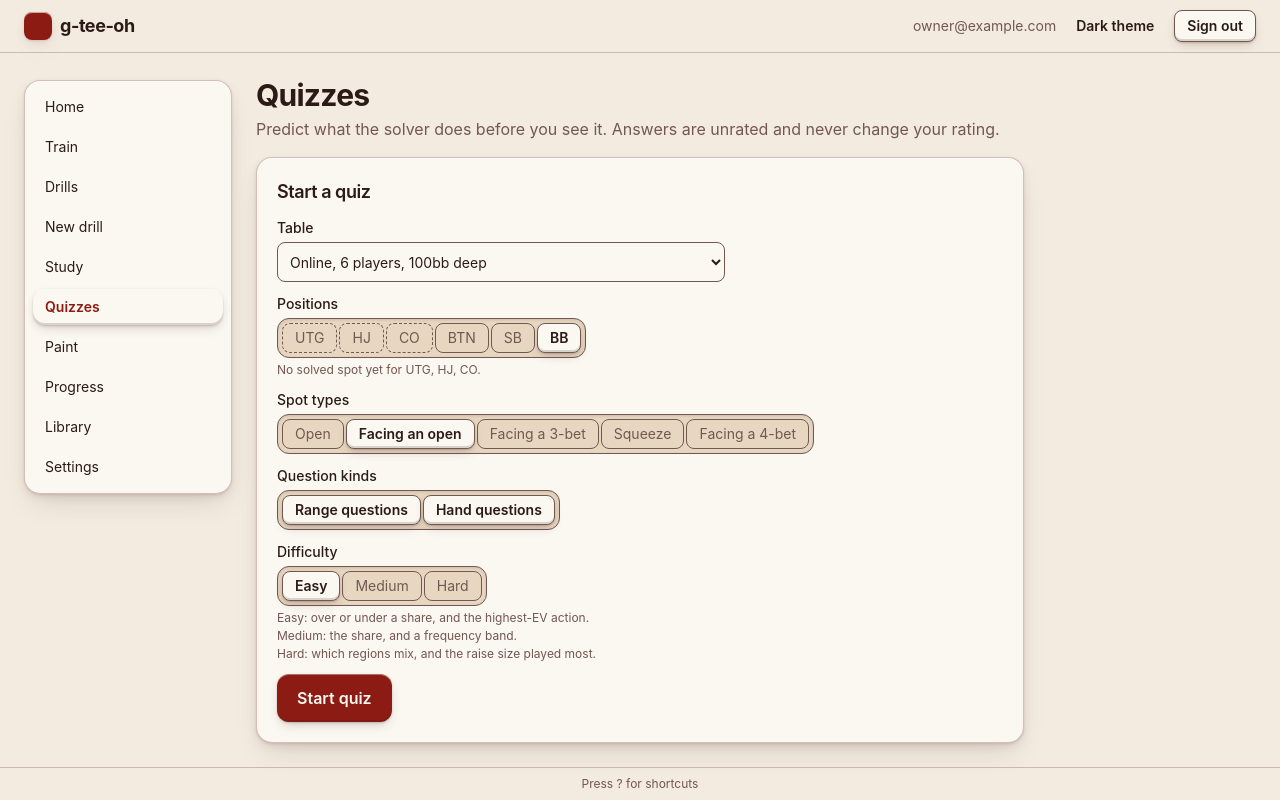
Scenario: R3.16 a quiz result (O-410) › R3.16 shows the passed mark and the window counts, and no unlock wording
Click the button "Start quiz": (334, 698) [277, 674, 392, 722]
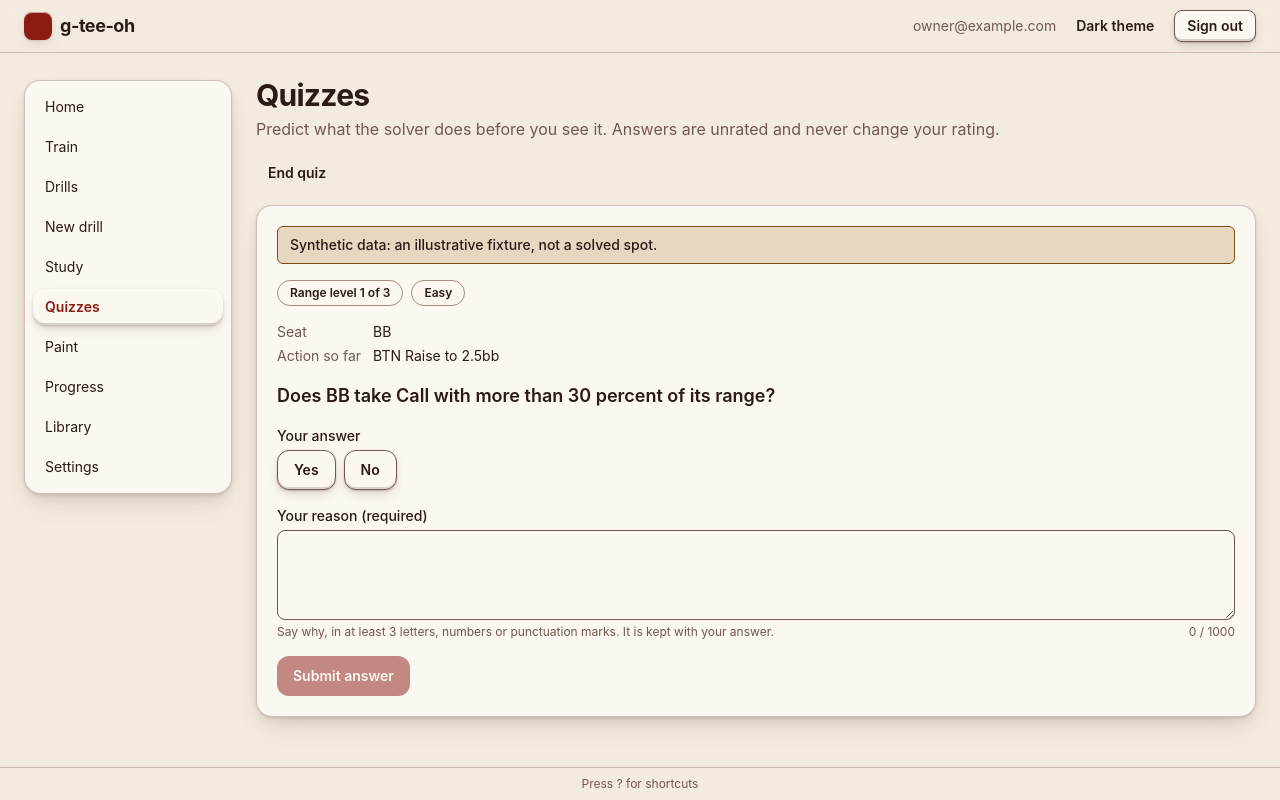
Now the heading "Does BB take Call with more than 30 percent of its range?" is shown, box [277, 385, 775, 406]
Click the button "Yes": (306, 470) [277, 450, 336, 490]
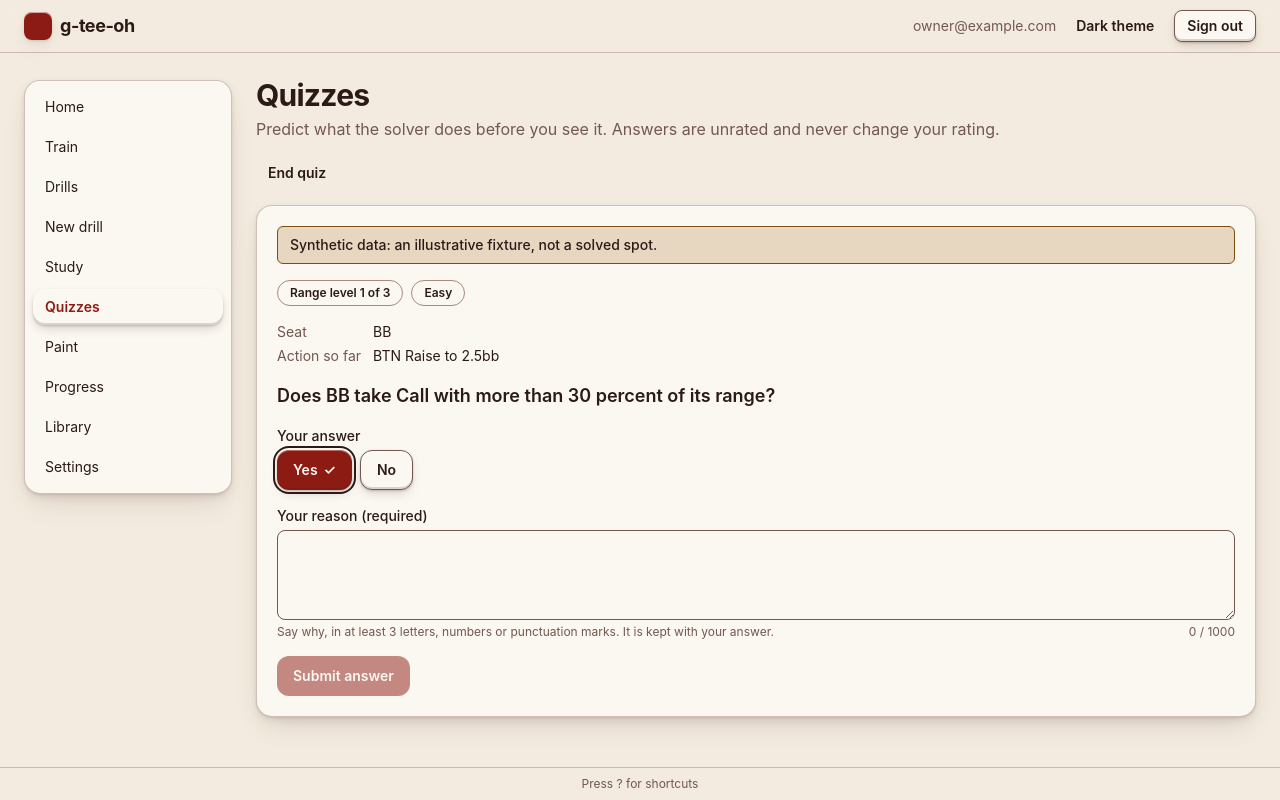
In the text box labelled "Your reason (required)": (756, 575) [277, 530, 1235, 620], type "Calls are cheap here."
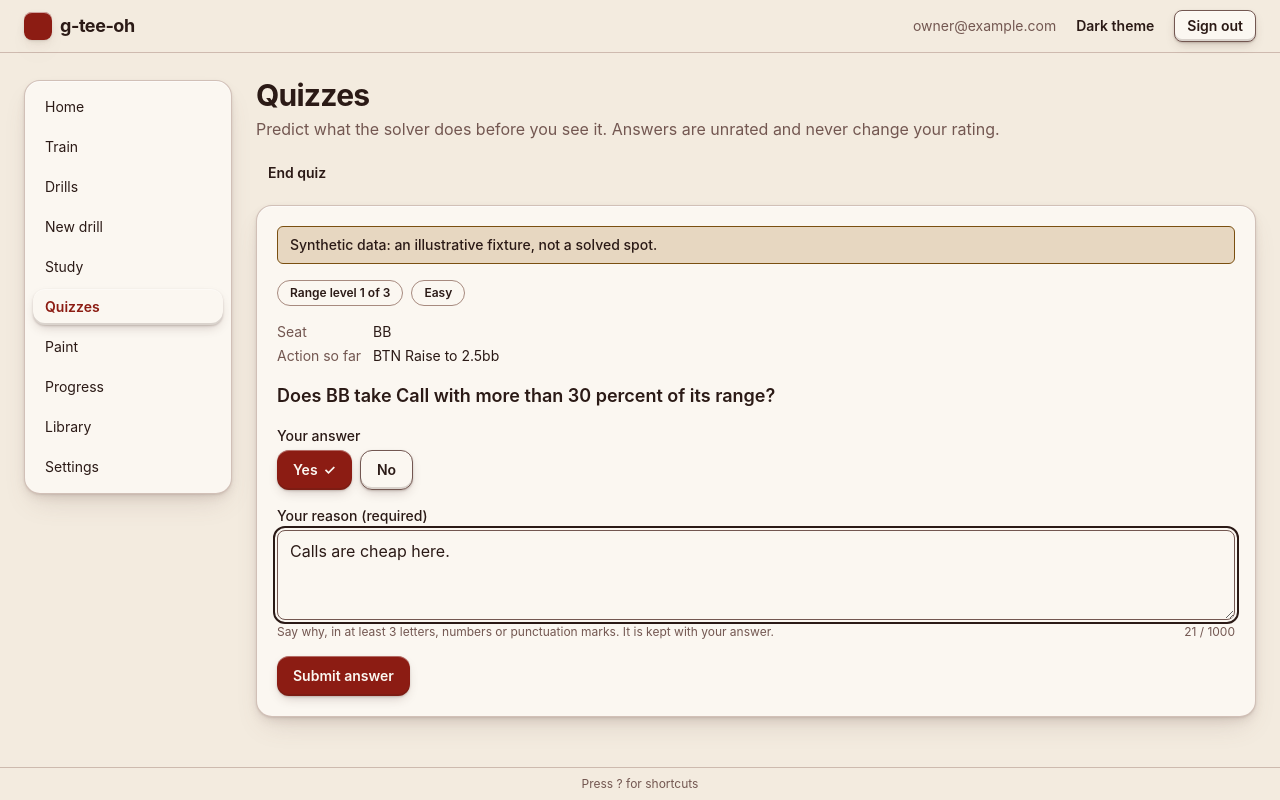
Click the button "Submit answer": (343, 676) [277, 656, 410, 696]
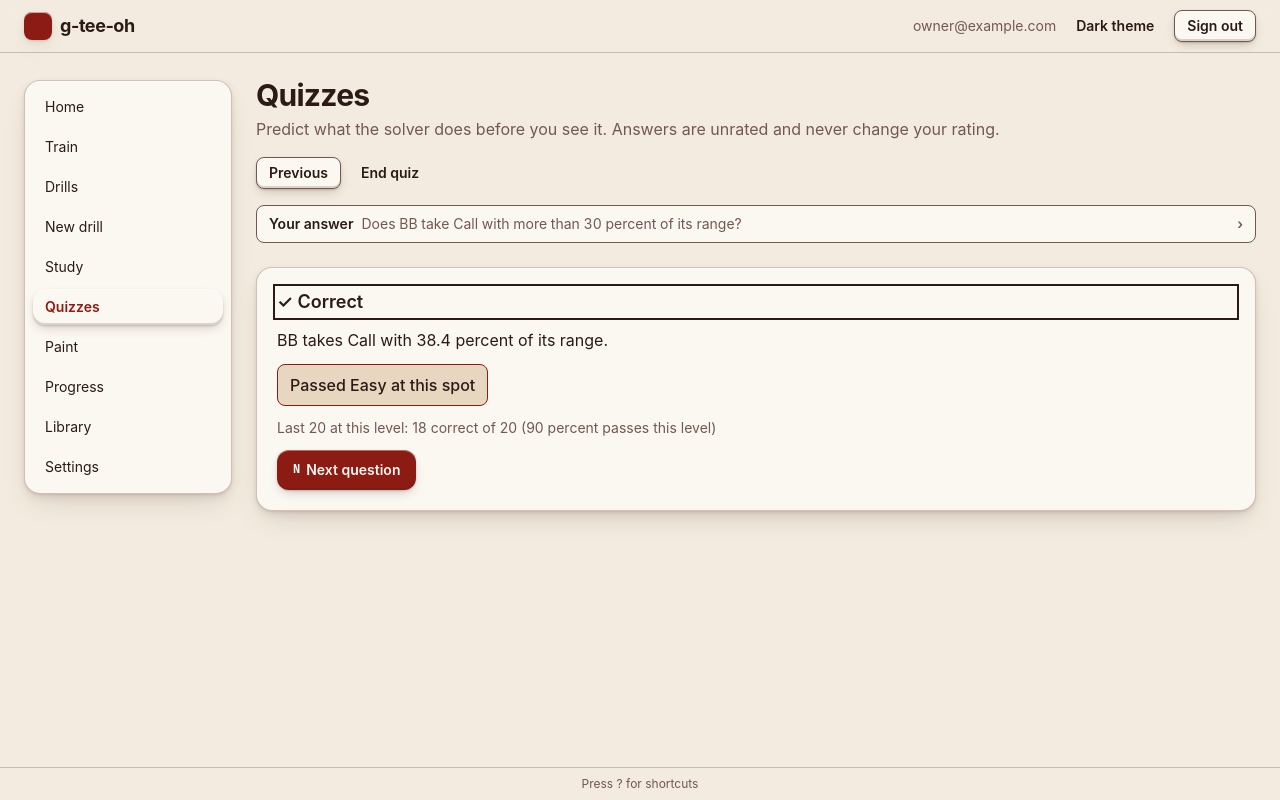
Now the element with test id "prediction-result" is shown, box [256, 267, 1256, 511]
Now the text "Passed Easy at this spot" is shown, box [277, 364, 488, 406]
Now the text "18 correct of 20" is shown, box [277, 419, 716, 436]
